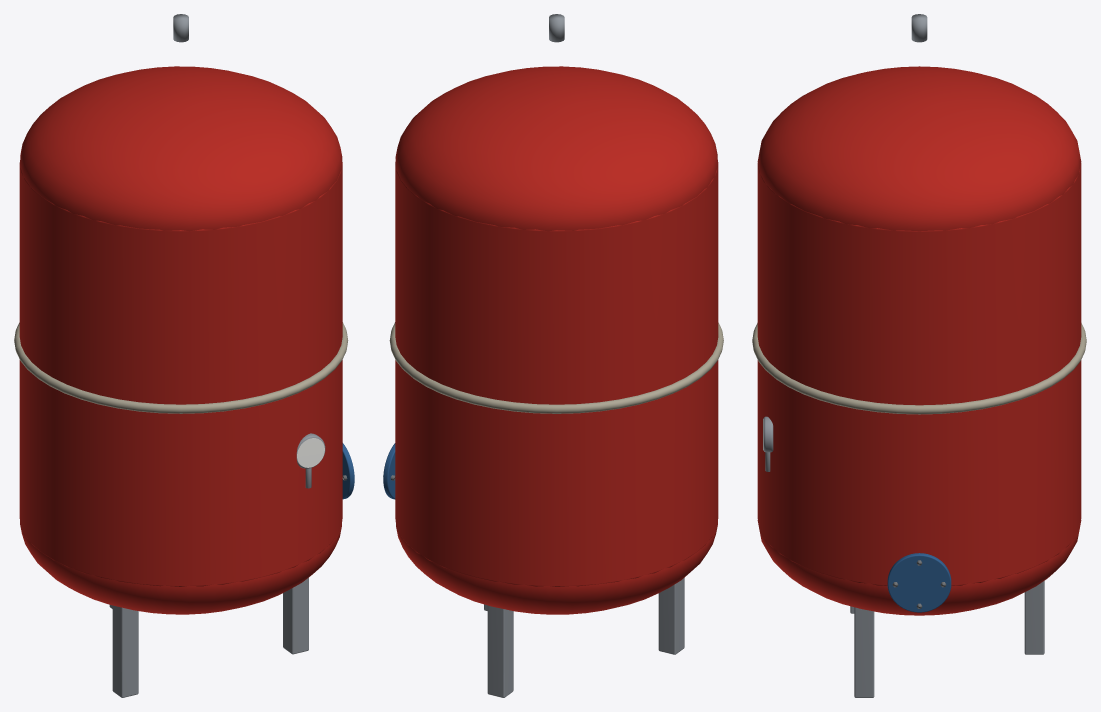
File: exptank.glb
3 renders of one model, left to right at view 1: azimuth 30°, elevation 25°; view 2: azimuth 150°, elevation 25°; view 3: azimuth 270°, elevation 25°, orthographic.
Parts seen in each view (by area): view 1: vessel, connection; view 2: vessel, connection; view 3: vessel, connection.
Part boxes in pixels (bbox=[...]): vessel: bbox=[14, 14, 348, 697]; connection: bbox=[296, 433, 354, 499]; vessel: bbox=[389, 14, 723, 697]; connection: bbox=[383, 443, 395, 499]; vessel: bbox=[752, 14, 1086, 697]; connection: bbox=[763, 416, 951, 612].
Size of the model in its own units: 0.883 by 1.75 by 0.8376.
